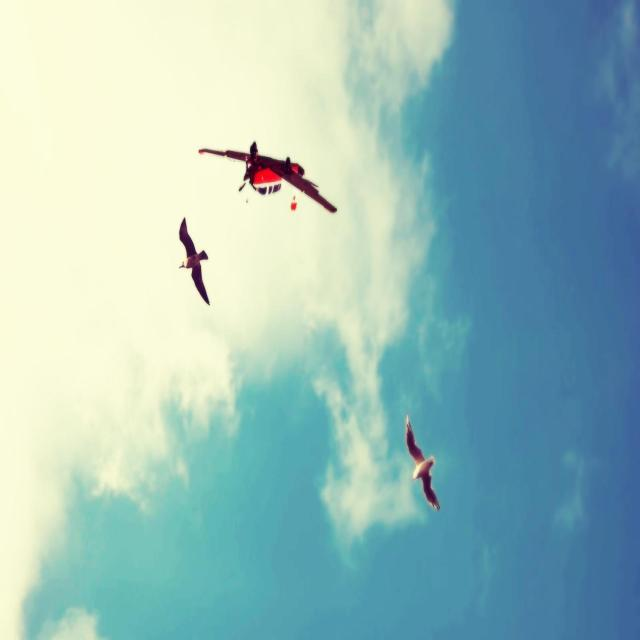airplane: (198, 140, 337, 213)
